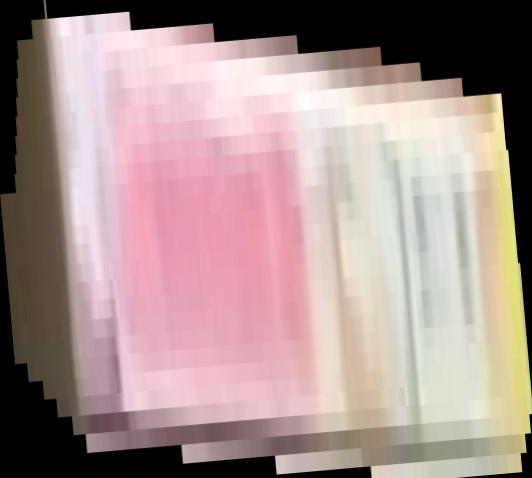flat: (1, 1, 532, 478)
